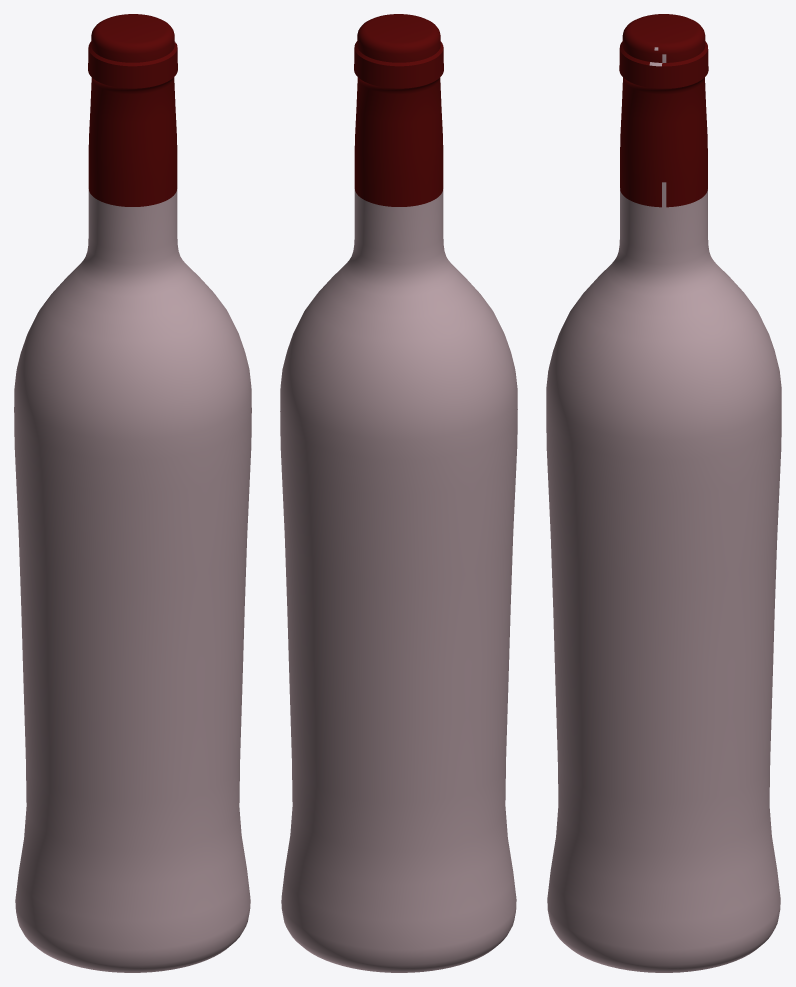
File: bbb_1-2.glb
The picture shows the model from 3 angles, left to right: view 1: azimuth 30°, elevation 25°; view 2: azimuth 150°, elevation 25°; view 3: azimuth 270°, elevation 25°; orthographic projection.
Parts seen in each view (by area): view 1: Wine_Rose_By_Ott_Domaines_Ott; view 2: Wine_Rose_By_Ott_Domaines_Ott; view 3: Wine_Rose_By_Ott_Domaines_Ott.
Part boxes in pixels (bbox=[...]): Wine_Rose_By_Ott_Domaines_Ott: bbox=[14, 14, 251, 972]; Wine_Rose_By_Ott_Domaines_Ott: bbox=[280, 14, 517, 972]; Wine_Rose_By_Ott_Domaines_Ott: bbox=[546, 14, 781, 972].
Bounding box in the file's own units: 0.7176 × 3 × 0.7105.
Materials: 2 (1 with a texture image).
